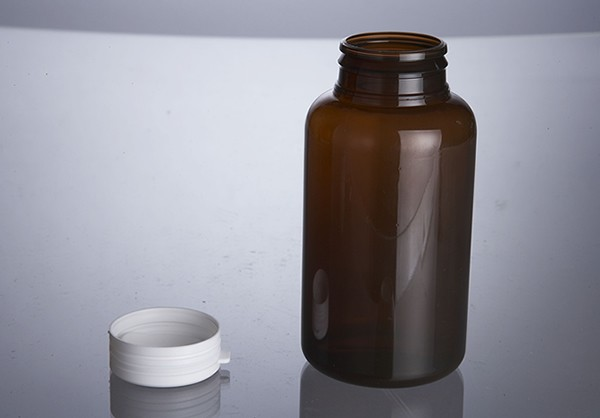medicinejar: (75, 28, 494, 403)
